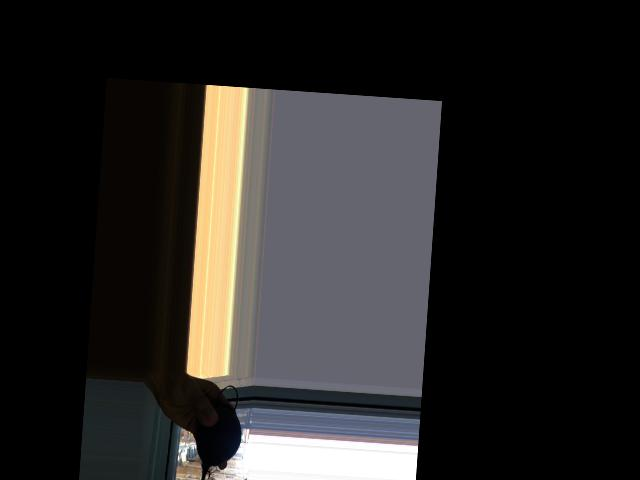beet: (190, 384, 244, 480)
